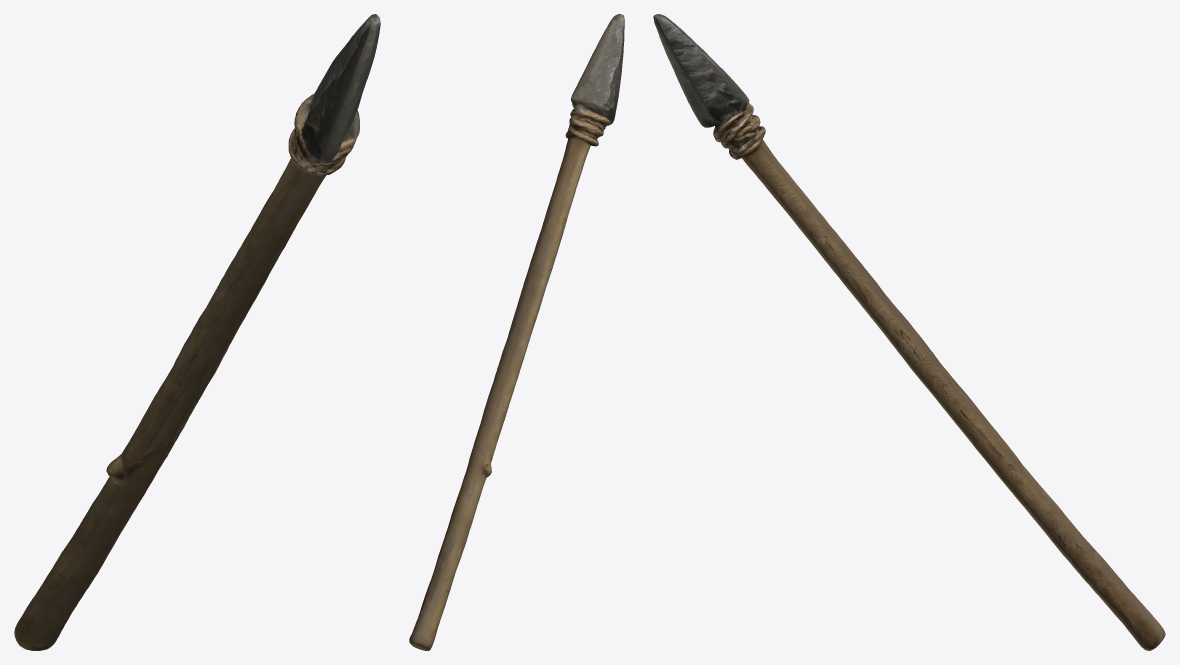
Rendered from speer_primitiv_original.glb.
3 views of the same model, side by side, from view 1: azimuth 30°, elevation 25°; view 2: azimuth 150°, elevation 25°; view 3: azimuth 270°, elevation 25° (orthographic). The views are drawn at different scales.
Bounding box in the file's own units: 0.1413 × 2 × 1.47.
1 material, 1 textured.
